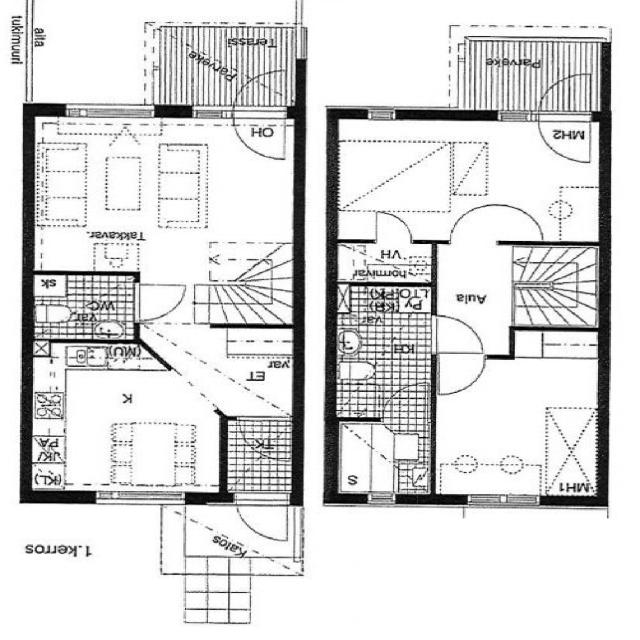door: (230, 65, 306, 165), (536, 72, 600, 168), (230, 484, 300, 546), (418, 348, 493, 397), (419, 312, 495, 354), (123, 284, 195, 324), (379, 370, 432, 423), (364, 206, 412, 247)
window: (53, 95, 169, 133), (72, 486, 192, 510), (452, 486, 550, 514), (485, 100, 542, 126), (190, 95, 231, 131), (356, 103, 412, 128), (352, 488, 405, 512)
zone: (16, 338, 226, 504), (325, 114, 595, 242), (29, 113, 213, 272), (432, 353, 613, 498), (328, 280, 437, 414), (330, 412, 431, 503), (24, 269, 142, 335), (320, 238, 432, 288)
